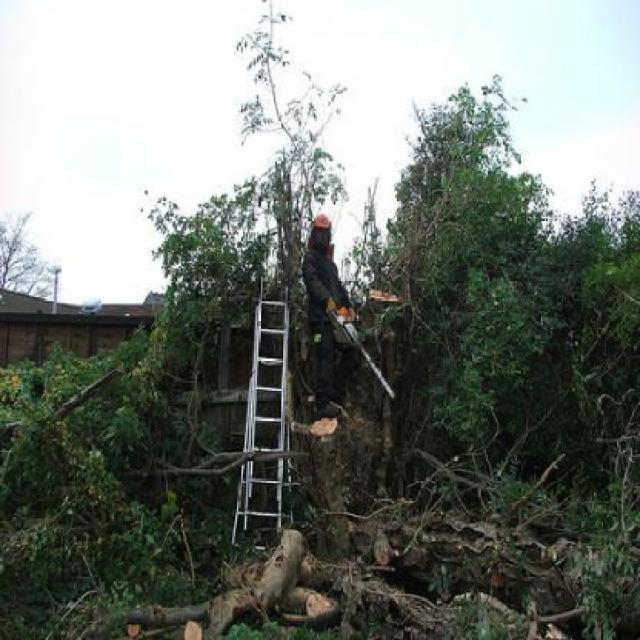Chainsaw: (324, 307, 398, 399)
